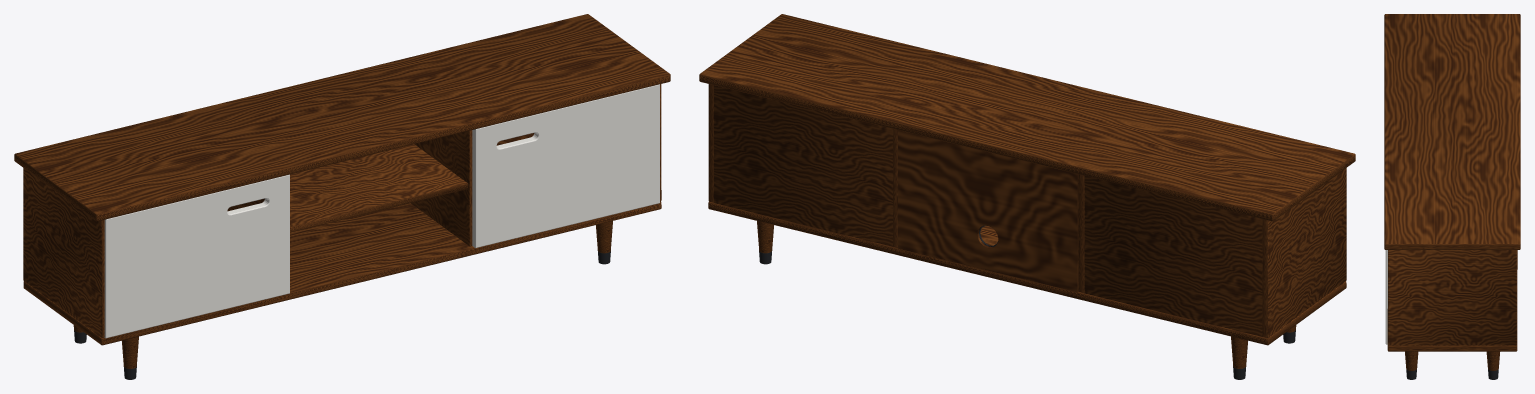
Rendered from living_tv_stand.glb.
3 views of the same model, side by side, from view 1: azimuth 30°, elevation 25°; view 2: azimuth 150°, elevation 25°; view 3: azimuth 270°, elevation 25° (orthographic). The views are drawn at different scales.
Parts seen in each view (by area): view 1: Govde_Ust_Tabla, Kapak_Sag, Kapak_Sol, Govde_Alt_Tabla, Govde_Sol_Yan, Orta_Acik_Raf, Govde_Sag_Ara_Panel; view 2: Govde_Ust_Tabla, Arka_Panel_Orta, Arka_Panel_Sol, Arka_Panel_Sag, Govde_Sol_Yan, Govde_Alt_Tabla, Govde_Sol_Ara_Panel, Govde_Sag_Yan, Govde_Sag_Ara_Panel; view 3: Govde_Ust_Tabla, Govde_Sag_Yan, Govde_Alt_Tabla, Kapak_Sag, Ayak_Arka_Sag_Govde, Ayak_On_Sag_Govde.
Part boxes in pixels (<box>): Govde_Ust_Tabla: <box>14,14,670,221</box>; Kapak_Sag: <box>472,84,659,248</box>; Kapak_Sol: <box>104,174,289,338</box>; Govde_Alt_Tabla: <box>23,201,661,345</box>; Govde_Sol_Yan: <box>23,168,104,337</box>; Orta_Acik_Raf: <box>290,144,468,232</box>; Govde_Sag_Ara_Panel: <box>411,130,472,246</box>; Govde_Ust_Tabla: <box>699,14,1355,221</box>; Arka_Panel_Orta: <box>898,130,1078,292</box>; Arka_Panel_Sol: <box>1083,176,1262,336</box>; Arka_Panel_Sag: <box>714,85,893,246</box>; Govde_Sol_Yan: <box>1262,168,1346,337</box>; Govde_Alt_Tabla: <box>708,201,1346,345</box>; Govde_Sol_Ara_Panel: <box>1078,174,1084,292</box>; Govde_Sag_Yan: <box>708,84,713,202</box>; Govde_Sag_Ara_Panel: <box>893,129,897,247</box>; Govde_Ust_Tabla: <box>1384,14,1520,249</box>; Govde_Sag_Yan: <box>1387,250,1517,345</box>; Govde_Alt_Tabla: <box>1387,345,1517,351</box>; Kapak_Sag: <box>1385,250,1387,344</box>; Ayak_Arka_Sag_Govde: <box>1486,351,1499,370</box>; Ayak_On_Sag_Govde: <box>1405,351,1418,370</box>.
Bounding box in the file's own units: 1.6 × 0.4999 × 0.3999.
4 materials, 2 textured.
